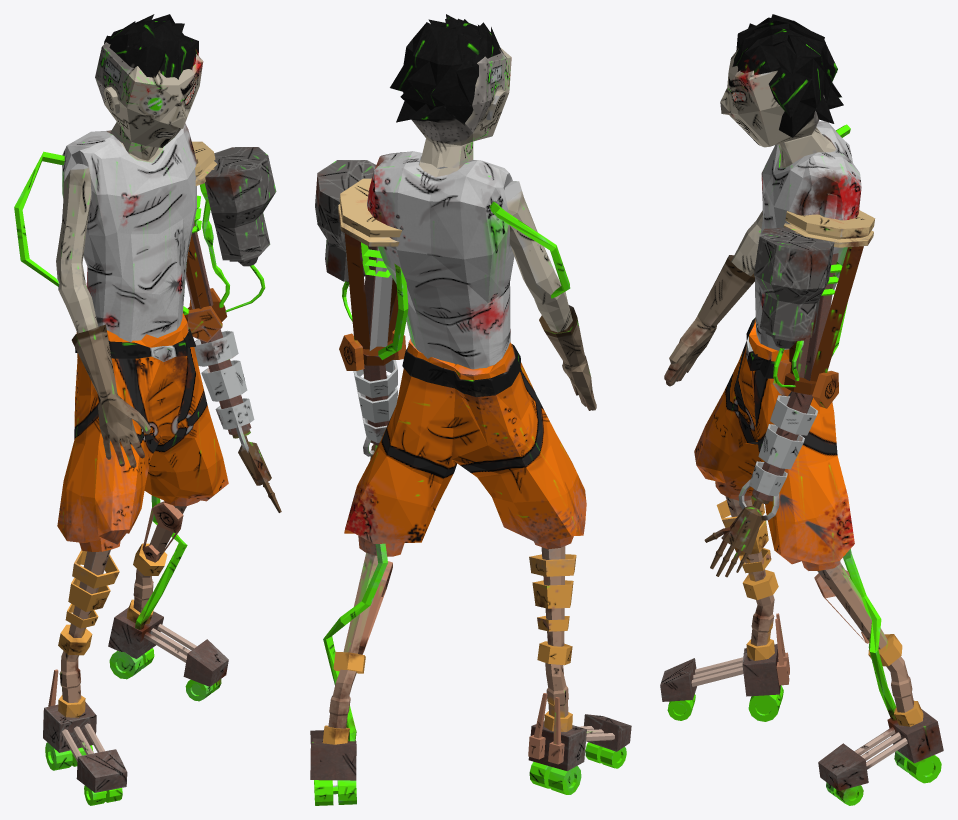
File: CyborgFINALAnimation_000163.obj
The picture shows the model from 3 angles, left to right: view 1: azimuth 30°, elevation 25°; view 2: azimuth 150°, elevation 25°; view 3: azimuth 270°, elevation 25°; orthographic projection. The views are drawn at different scales.
Parts seen in each view (by area): view 1: CyborgMesh_Cube.002; view 2: CyborgMesh_Cube.002; view 3: CyborgMesh_Cube.002.
Part boxes in pixels (box(x1,y1,x2,y2)): CyborgMesh_Cube.002: box(14, 14, 281, 805); CyborgMesh_Cube.002: box(310, 14, 631, 805); CyborgMesh_Cube.002: box(660, 14, 943, 805).
Size of the model in its own units: 3.41 by 9.62 by 3.34.
